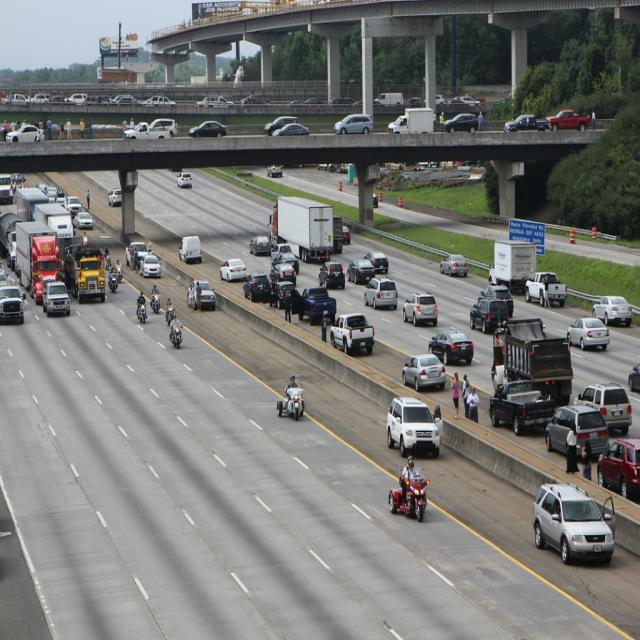car: (534, 483, 621, 569), (388, 398, 440, 455), (403, 357, 449, 390), (403, 295, 433, 324), (439, 258, 469, 276)
